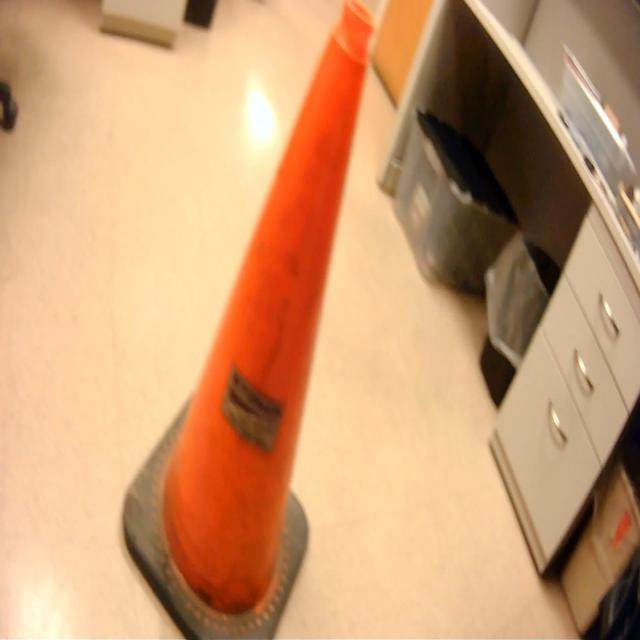traffic cone: (119, 1, 378, 640)
